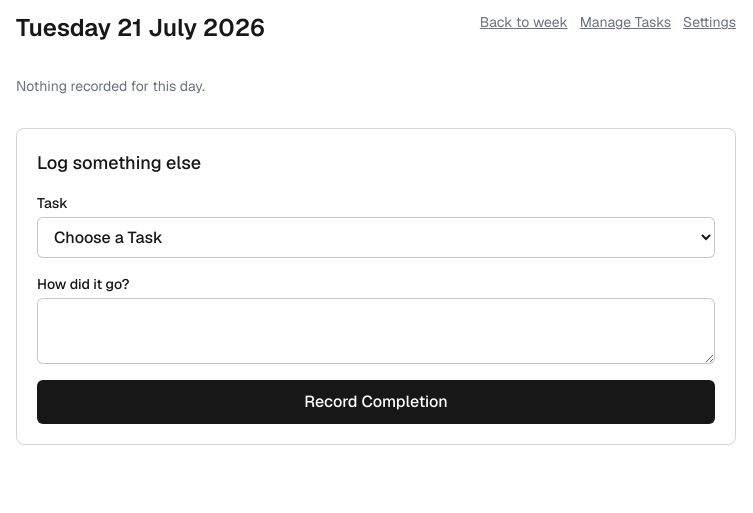
it: Day page › logs an ad-hoc Completion against the viewed date
Expected: the heading "Log something else" is shown, [37,151,201,174]
Select "Read" in the dropdown labelled "Task" at x=376, y=238, box [37,217,715,258]
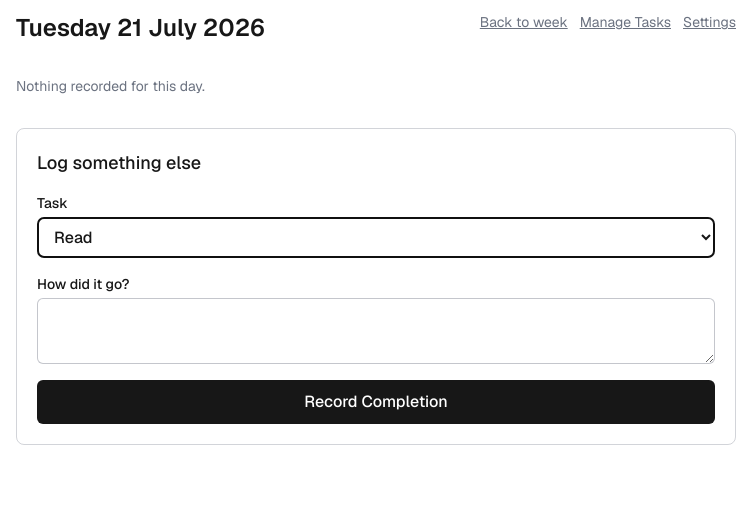
Type "Did it anyway" into the text box named "How did it go for ad-hoc Completion" at x=376, y=331, box [37,298,715,364]
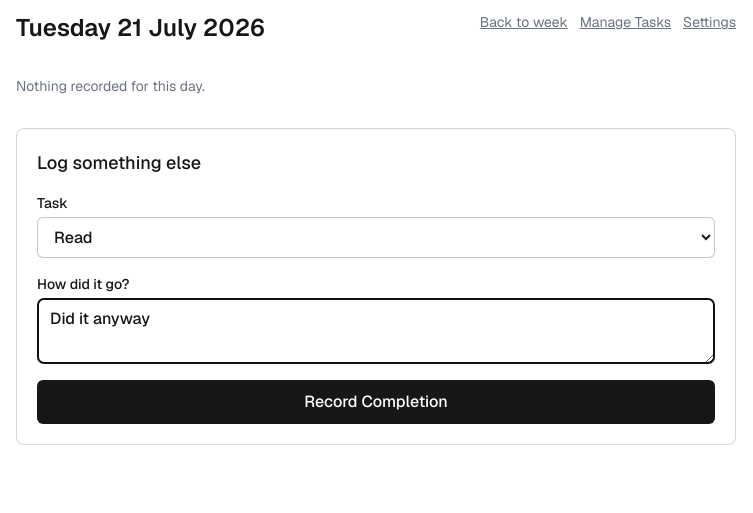
Click the button "Record Completion" at x=376, y=402, box [37,380,715,424]
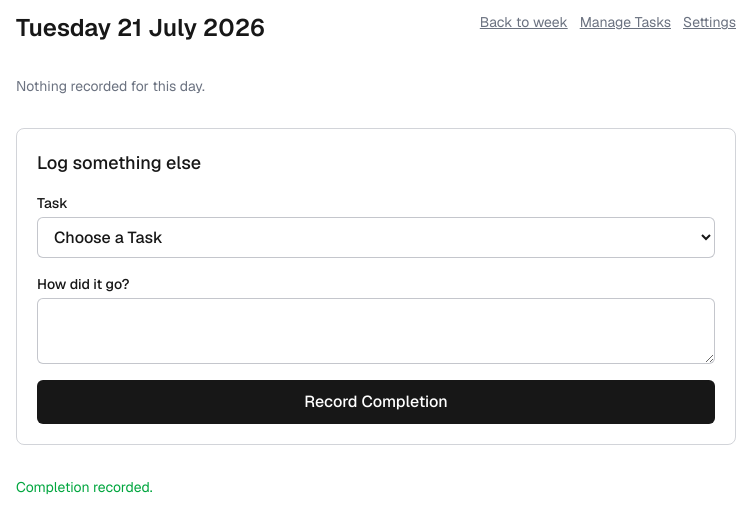
Result: the text "Completion recorded." is shown at [16,478,153,496]
